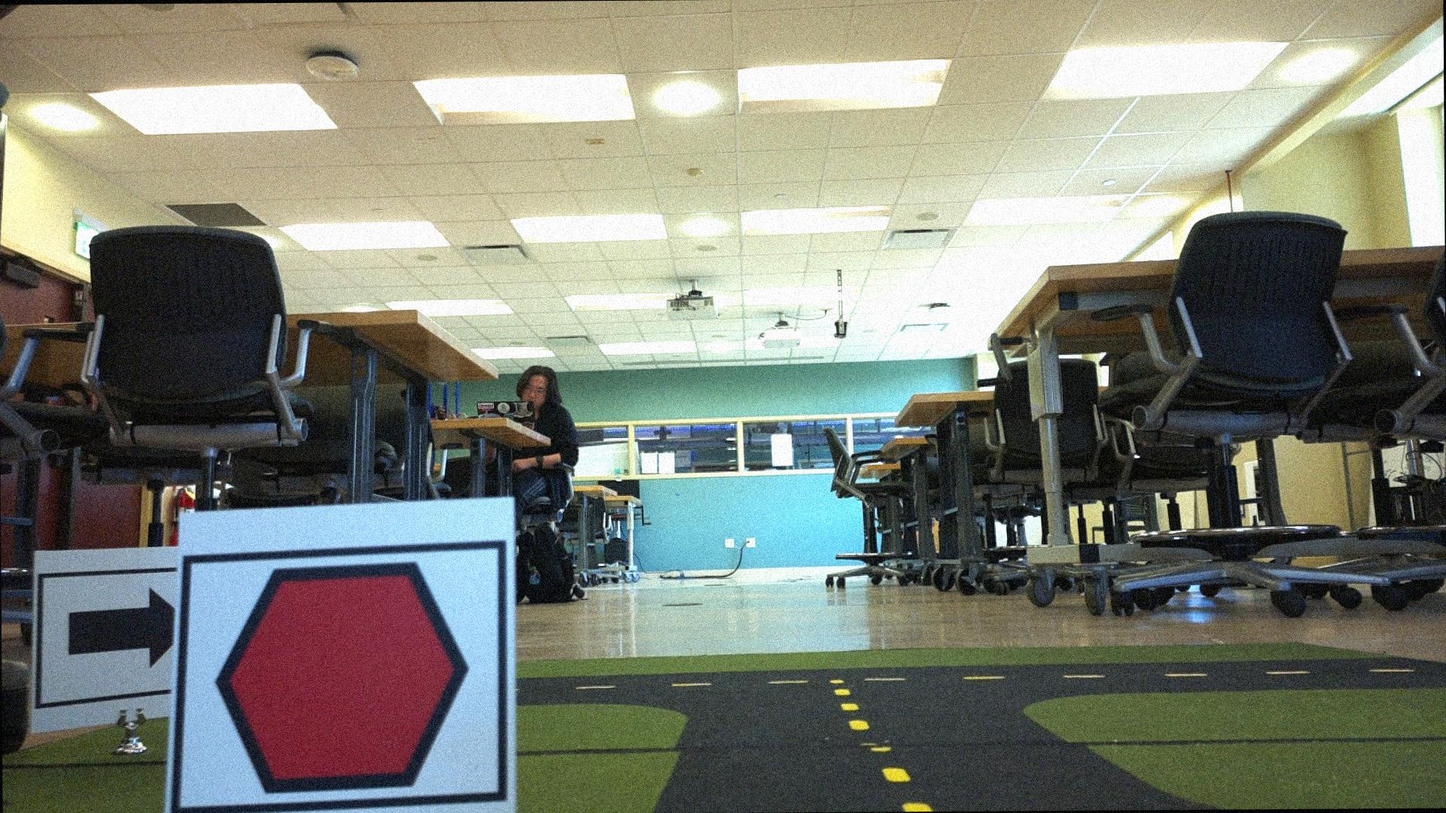stop: (200, 551, 487, 805)
yellowline: (877, 744, 927, 811), (835, 684, 874, 736)
